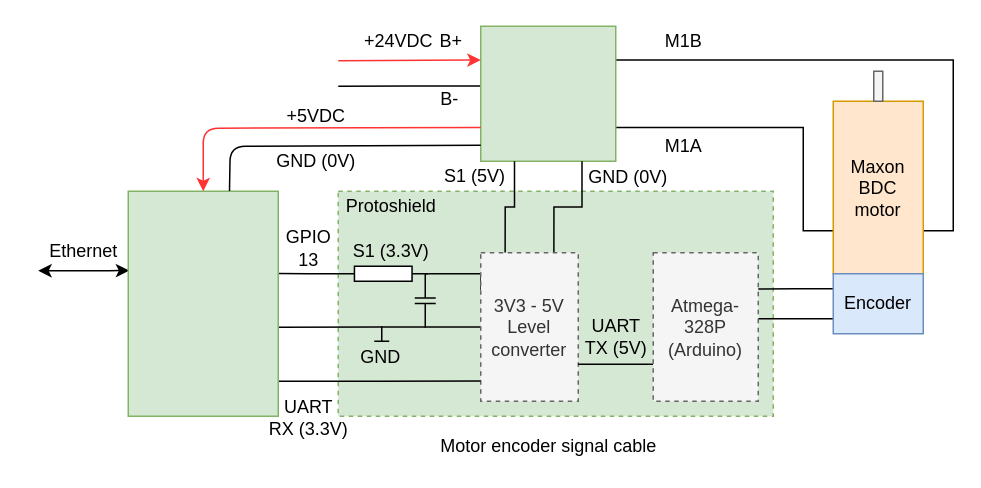
Some shapes in this 981 by 488 pixel diagram are drawn without their labels. Here are the shapes that lost their labels. From the top down, the centre of each, then its label:
At pixel 547 93: "Sabertooth 2x12 V1".
At pixel 202 303: "Raspberry Pi".
